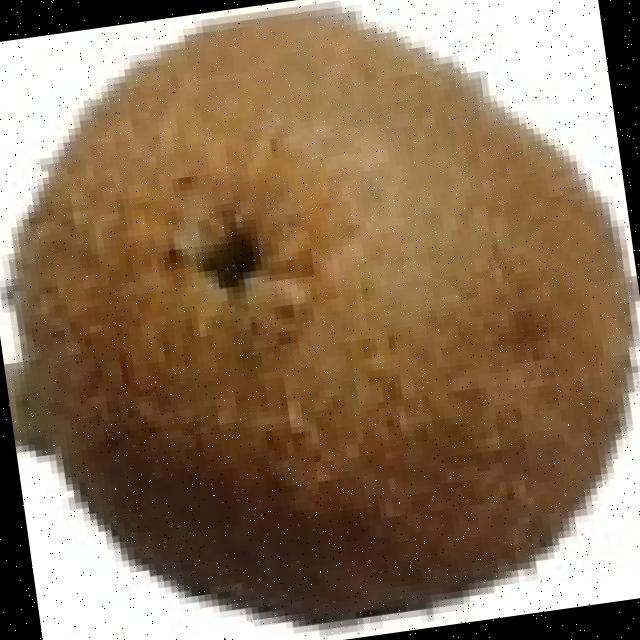kiwi: (9, 11, 627, 617)
